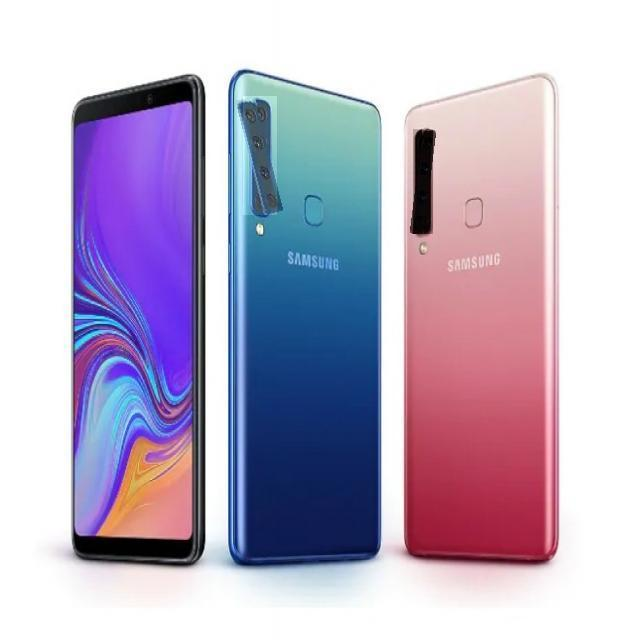phone: (398, 70, 563, 564), (225, 64, 382, 566), (67, 70, 210, 569)
